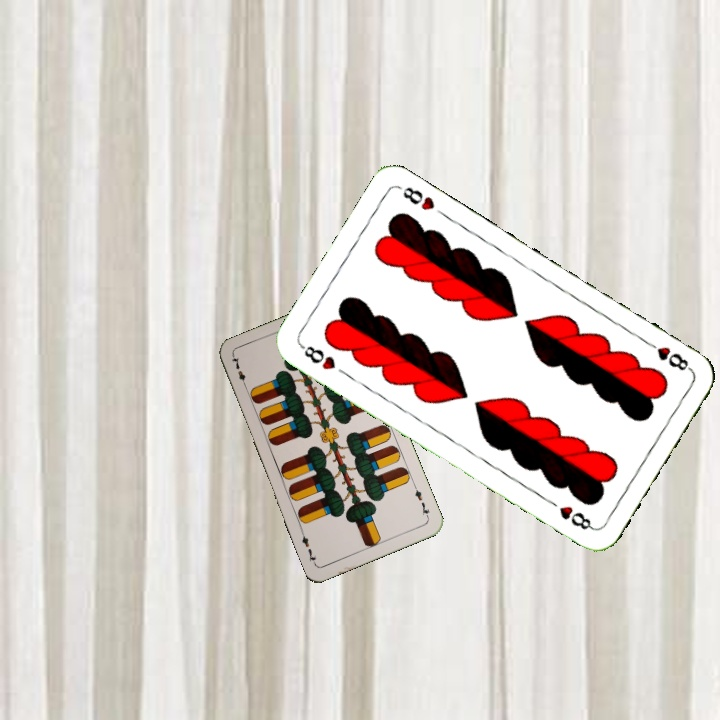E7: (410, 482, 432, 521), (228, 352, 250, 391)
H8: (641, 337, 695, 374), (296, 341, 339, 373)
